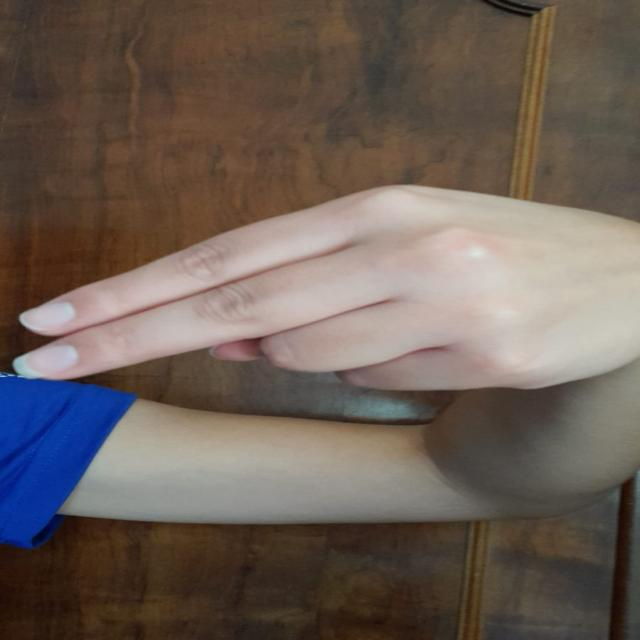N: (0, 168, 640, 416)
